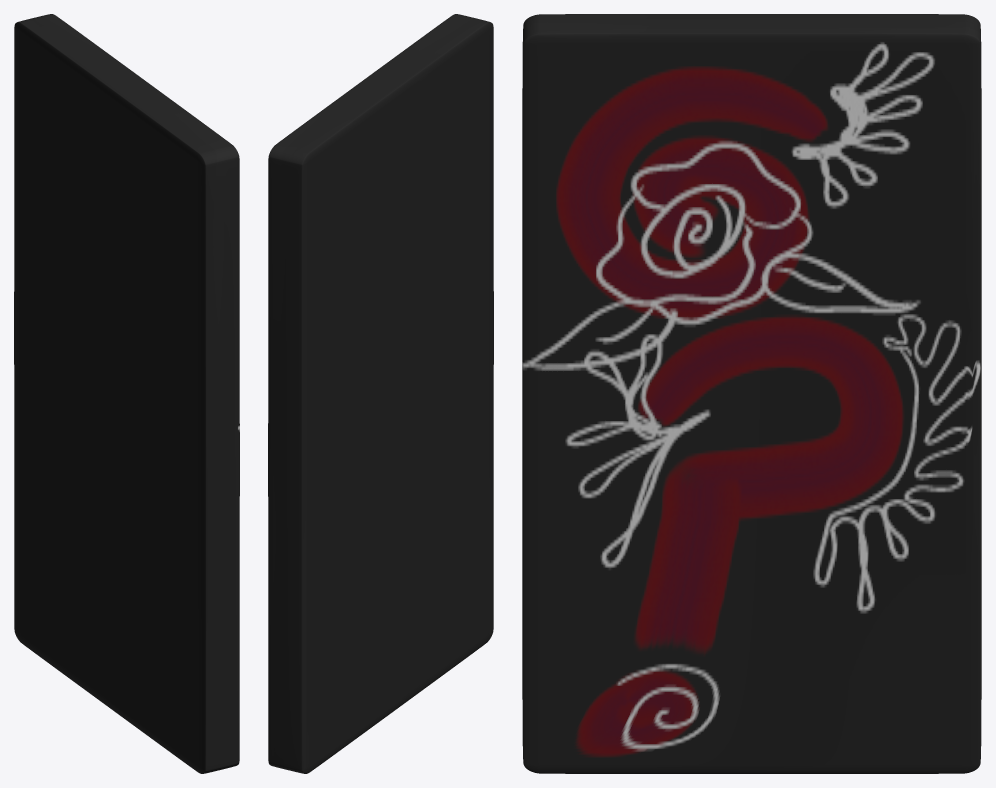
The picture shows the model from 3 angles, left to right: view 1: azimuth 30°, elevation 25°; view 2: azimuth 150°, elevation 25°; view 3: azimuth 270°, elevation 25°; orthographic projection. The views are drawn at different scales.
Visible parts, largest first — view 1: pCube3; view 2: pCube3; view 3: pCube3.
Boxes of the visible parts, <box> form: pCube3: <box>14,14,239,773</box>; pCube3: <box>268,14,493,773</box>; pCube3: <box>522,14,981,773</box>.
Size of the model in its own units: 0.9269 by 14.98 by 8.42.
Materials: 1 (1 with a texture image).
